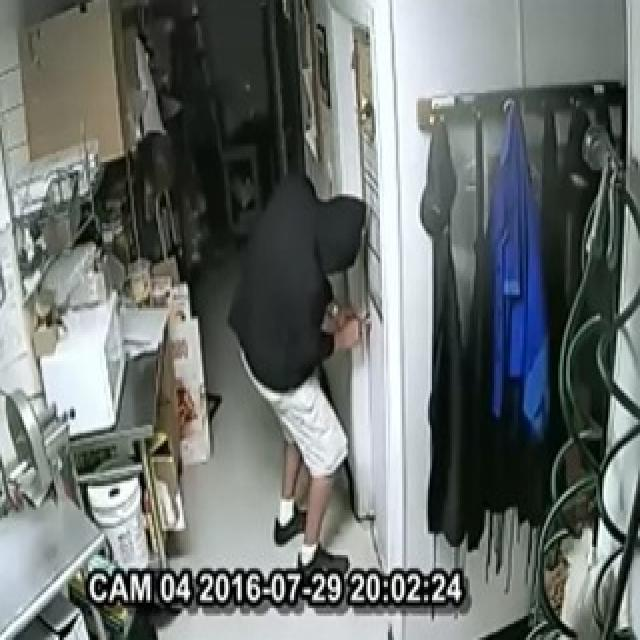thief: (225, 165, 382, 562)
